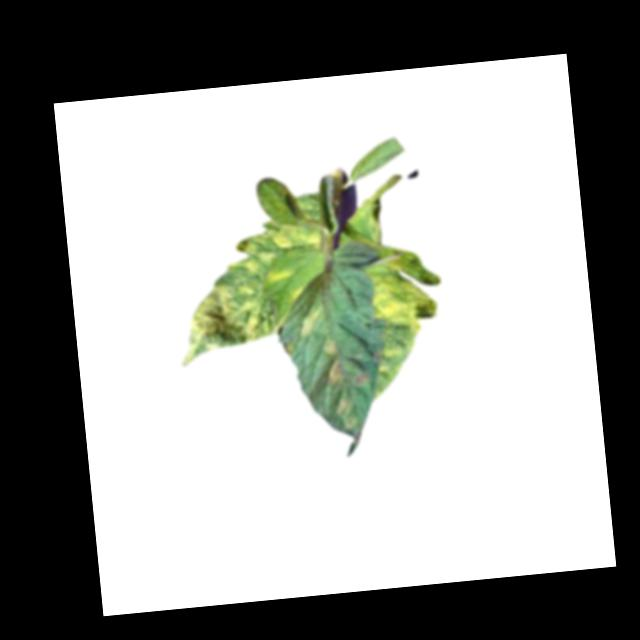Leaf_Mold: (171, 254, 277, 369), (362, 250, 447, 342), (238, 220, 325, 256), (293, 302, 327, 341), (324, 356, 346, 383), (265, 266, 297, 283), (321, 338, 338, 357)
